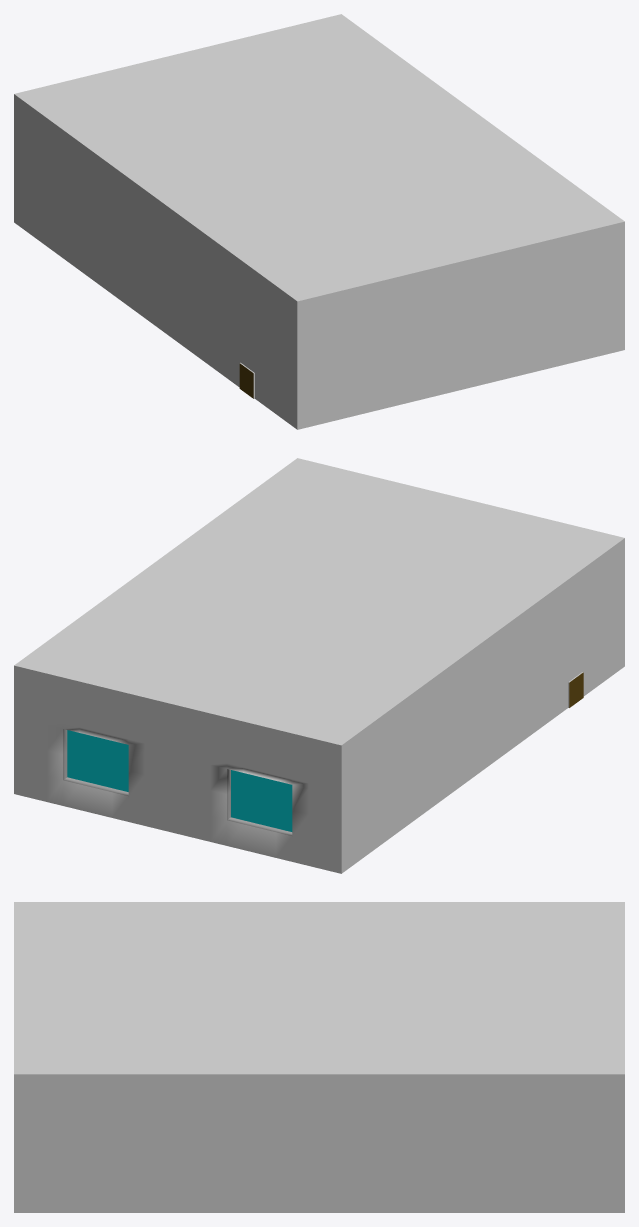
File: Raum.fbx
3 renders of one model, top to bottom at view 1: azimuth 30°, elevation 25°; view 2: azimuth 150°, elevation 25°; view 3: azimuth 270°, elevation 25°, orthographic. The views are drawn at different scales.
Visible parts, largest first — view 1: pPlane2; view 2: pPlane2; view 3: pPlane2.
Boxes of the visible parts, <box> form: pPlane2: <box>14,14,624,429</box>; pPlane2: <box>14,458,624,873</box>; pPlane2: <box>14,902,624,1212</box>.
Bounding box in the file's own units: 13.39 × 5 × 20.
